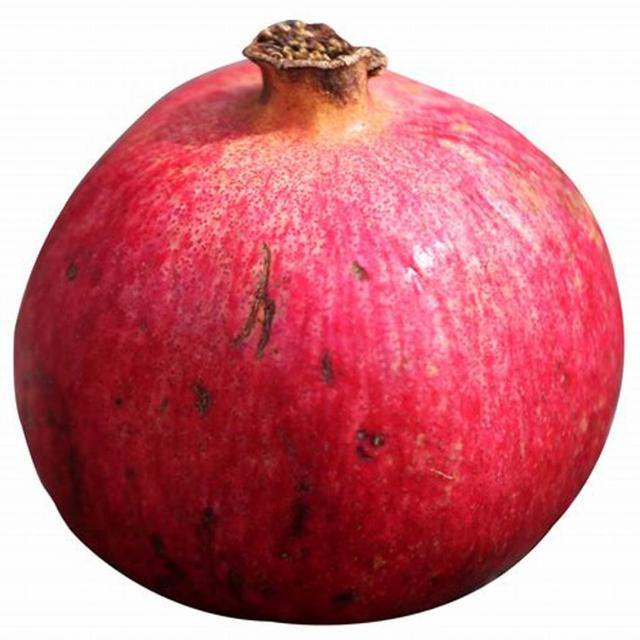Pomegranate: (17, 25, 622, 624)
